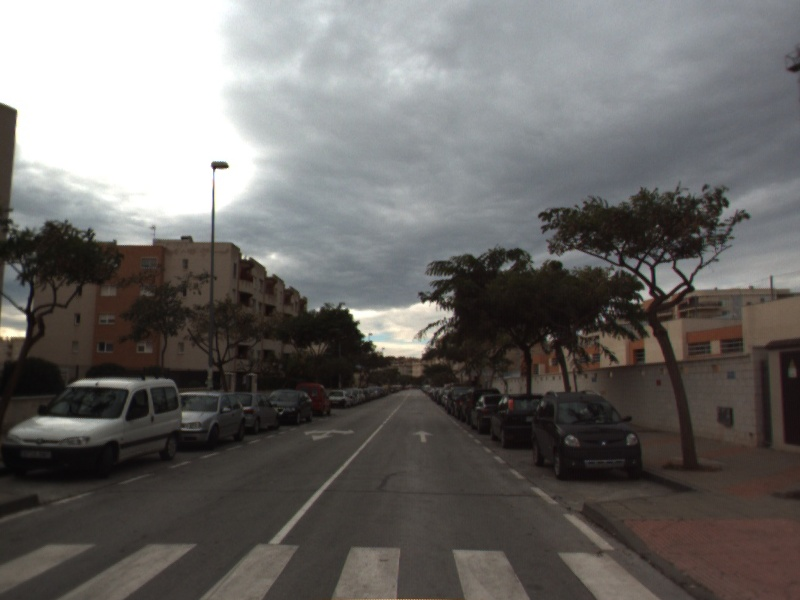STRAIGHT: (411, 428, 435, 444)
